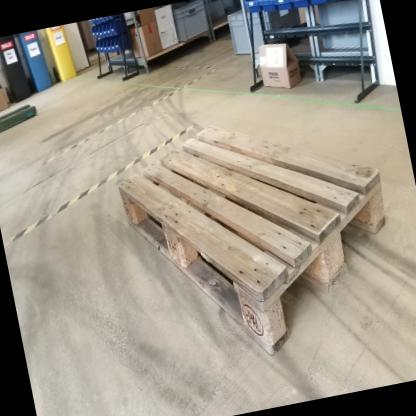BoxFace: (115, 119, 391, 363)
